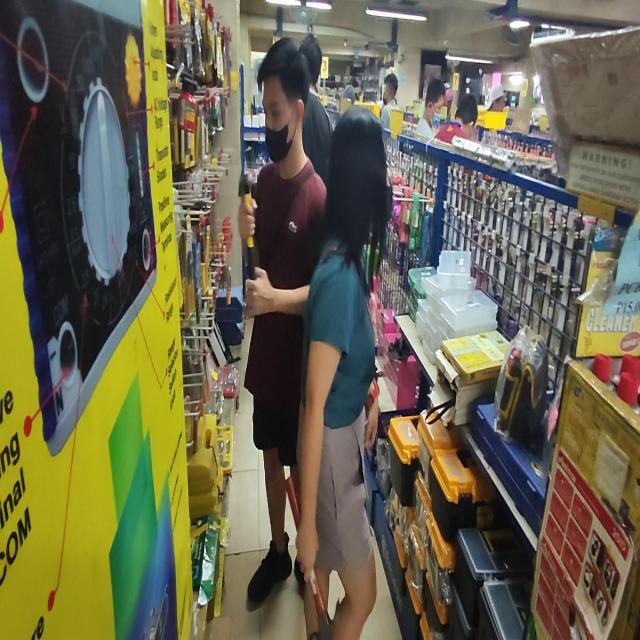hammer: (286, 476, 340, 640)
